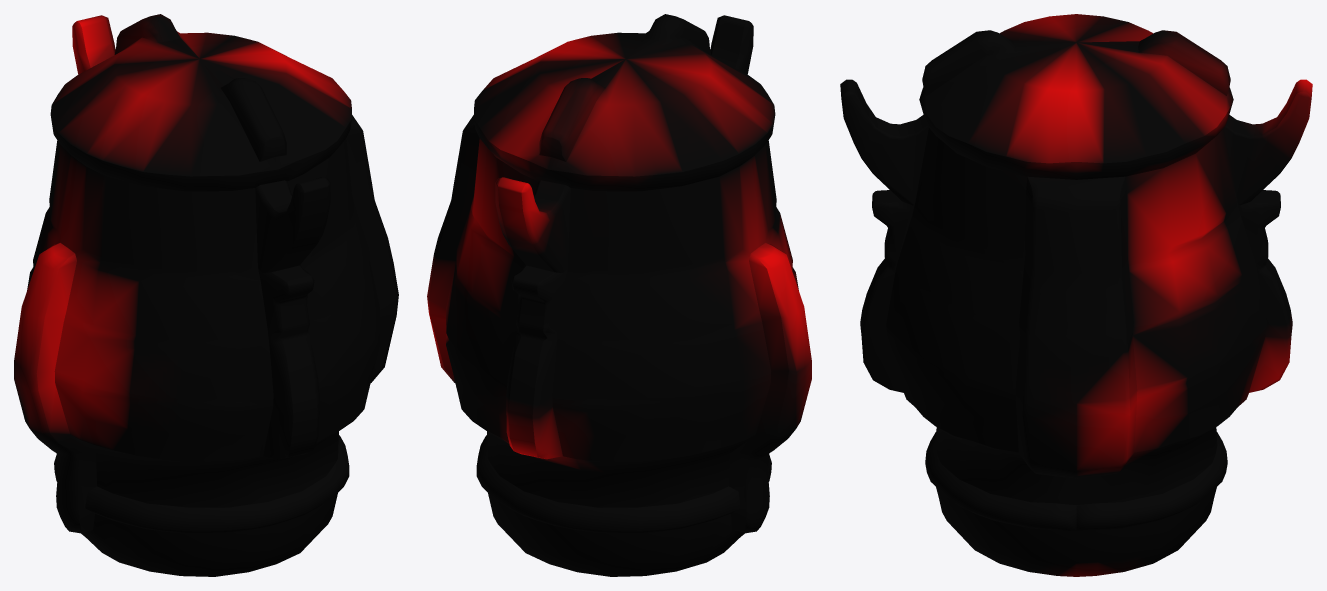
File: SM_Relic_Jar.FBX
The picture shows the model from 3 angles, left to right: view 1: azimuth 30°, elevation 25°; view 2: azimuth 150°, elevation 25°; view 3: azimuth 270°, elevation 25°; orthographic projection. The views are drawn at different scales.
Parts seen in each view (by area): view 1: Prop_Relic_Jar; view 2: Prop_Relic_Jar; view 3: Prop_Relic_Jar.
Boxes of the visible parts, <box> form: Prop_Relic_Jar: <box>14,14,398,576</box>; Prop_Relic_Jar: <box>427,14,811,576</box>; Prop_Relic_Jar: <box>840,14,1312,576</box>.
Size of the model in its own units: 63.02 by 80 by 68.99.
